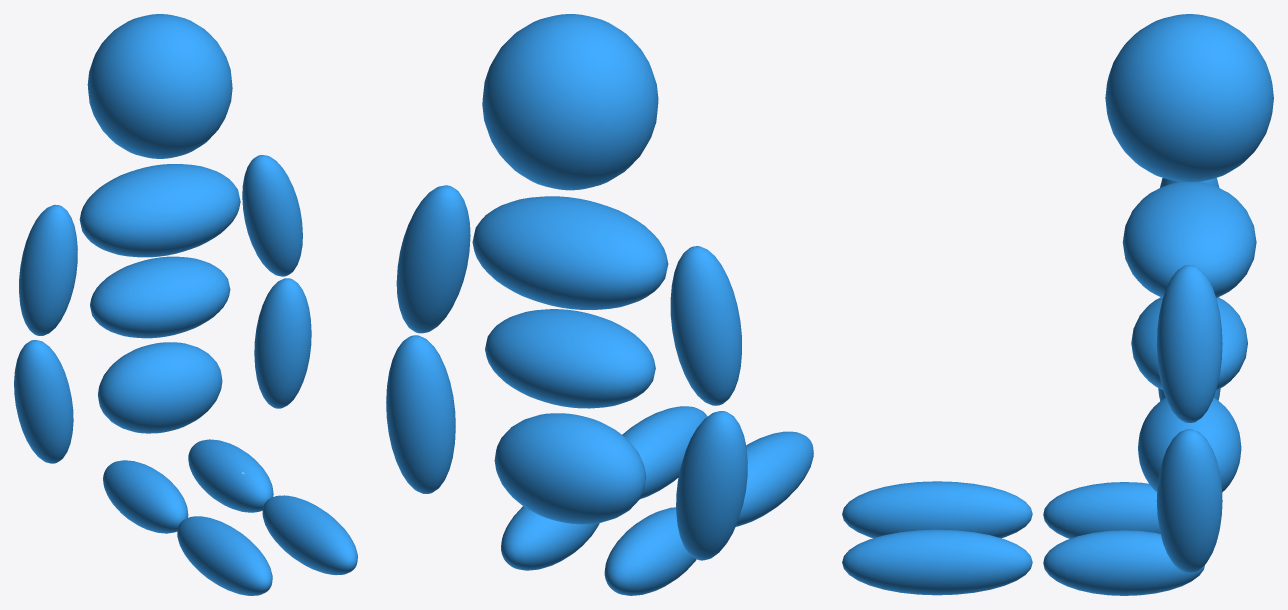
Rendered from player5.obj.
3 views of the same model, side by side, from view 1: azimuth 30°, elevation 25°; view 2: azimuth 150°, elevation 25°; view 3: azimuth 270°, elevation 25° (orthographic). The views are drawn at different scales.
Parts seen in each view (by area): view 1: Sphere.004_Sphere.010; view 2: Sphere.004_Sphere.010; view 3: Sphere.004_Sphere.010.
Part boxes in pixels (x1=…): Sphere.004_Sphere.010: x1=14, y1=14, x2=357, y2=595; Sphere.004_Sphere.010: x1=386, y1=14, x2=813, y2=595; Sphere.004_Sphere.010: x1=842, y1=14, x2=1273, y2=595.
Size of the model in its own units: 2.38 by 3.69 by 2.64.
1 material, 1 textured.
